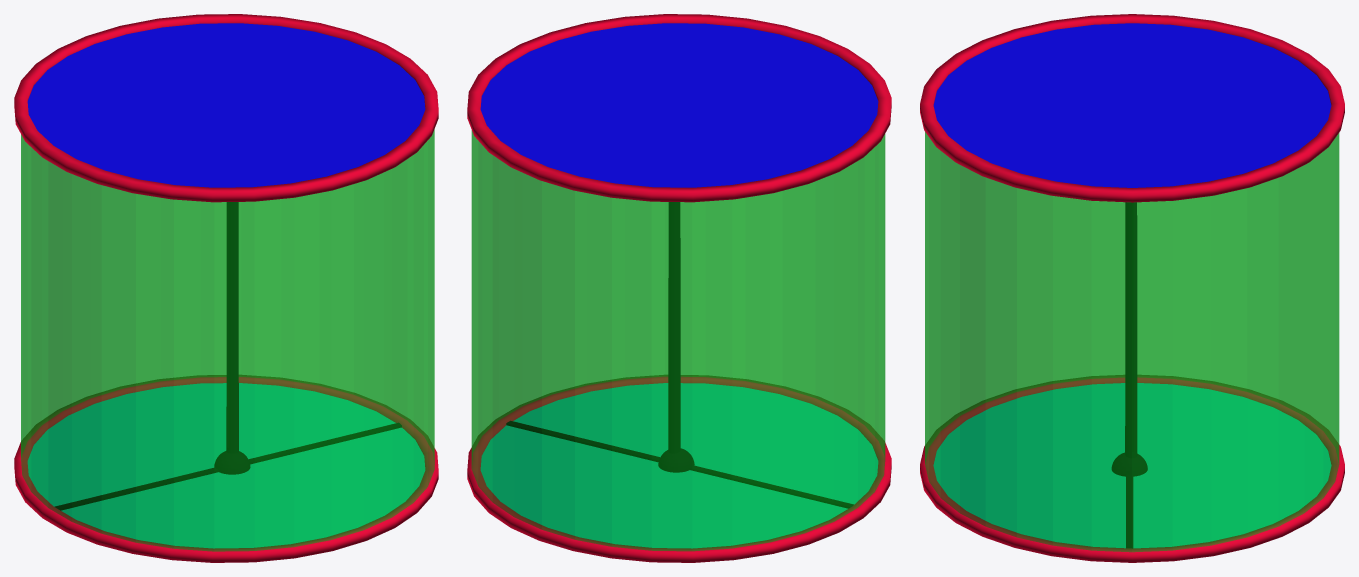
File: tabung.glb
3 renders of one model, left to right at view 1: azimuth 30°, elevation 25°; view 2: azimuth 150°, elevation 25°; view 3: azimuth 270°, elevation 25°, orthographic.
Parts seen in each view (by area): view 1: Circle.002, Circle.005, Circle.011, Circle.003, Circle.006, Circle.030, Plane.003, Sphere.048; view 2: Circle.002, Circle.005, Circle.011, Circle.003, Circle.006, Circle.030, Plane.003, Sphere.048; view 3: Circle.002, Circle.005, Circle.011, Circle.003, Circle.006, Circle.030, Sphere.048, Plane.003.
Boxes of the visible parts, bbox=[...] form: Circle.002: bbox=[21, 129, 434, 551]; Circle.005: bbox=[27, 23, 425, 187]; Circle.011: bbox=[27, 383, 425, 548]; Circle.003: bbox=[14, 14, 438, 202]; Circle.006: bbox=[14, 375, 438, 562]; Circle.030: bbox=[226, 202, 238, 453]; Plane.003: bbox=[55, 422, 401, 510]; Sphere.048: bbox=[214, 451, 250, 474]; Circle.002: bbox=[471, 130, 885, 551]; Circle.005: bbox=[480, 23, 878, 187]; Circle.011: bbox=[480, 383, 878, 548]; Circle.003: bbox=[467, 14, 891, 202]; Circle.006: bbox=[467, 375, 891, 562]; Circle.030: bbox=[668, 202, 680, 453]; Plane.003: bbox=[506, 421, 853, 508]; Sphere.048: bbox=[658, 448, 694, 472]; Circle.002: bbox=[925, 132, 1339, 552]; Circle.005: bbox=[933, 23, 1331, 187]; Circle.011: bbox=[933, 383, 1331, 548]; Circle.003: bbox=[920, 14, 1344, 202]; Circle.006: bbox=[920, 375, 1344, 562]; Circle.030: bbox=[1125, 202, 1137, 458]; Sphere.048: bbox=[1111, 452, 1147, 476]; Plane.003: bbox=[1126, 474, 1133, 548].
Bounding box in the file's own units: 3.99 × 3.94 × 3.99.
